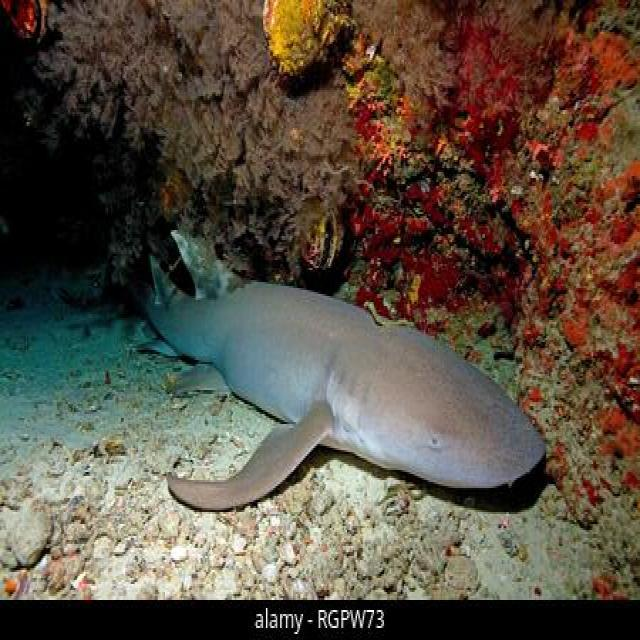Shark: (130, 210, 568, 542)
